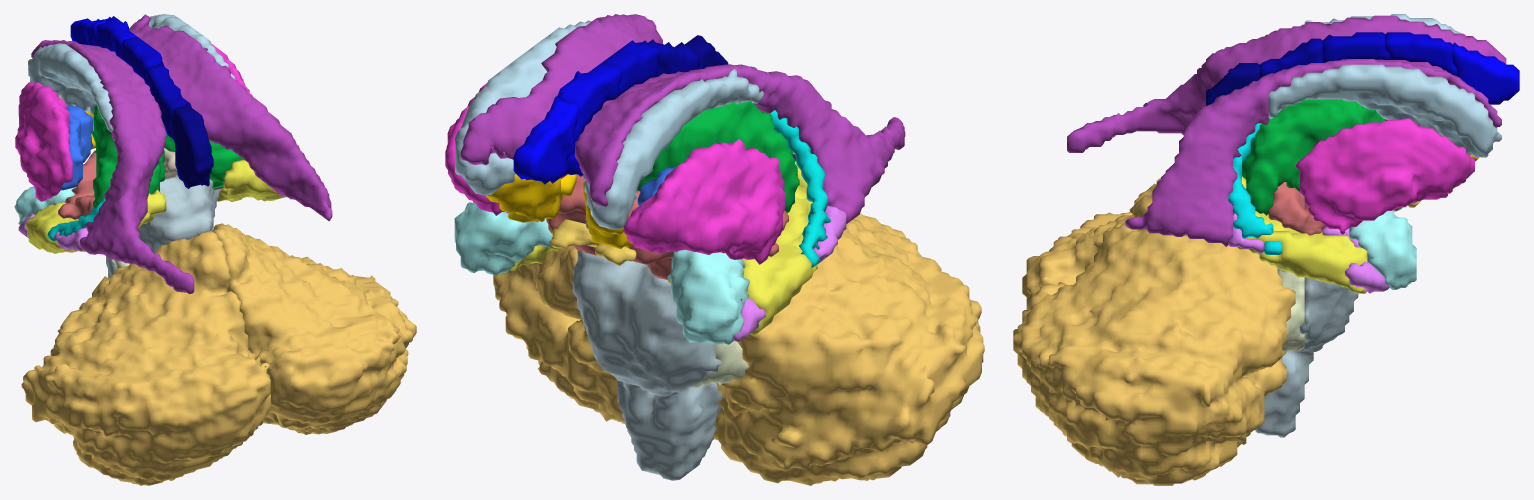
Rendered from structures.glb.
The picture shows the model from 3 angles, left to right: view 1: azimuth 30°, elevation 25°; view 2: azimuth 150°, elevation 25°; view 3: azimuth 270°, elevation 25°; orthographic projection. The views are drawn at different scales.
Visible parts, largest first — view 1: aseg:left:8, aseg:right:47, aseg:right:43, aseg:left:4, aseg:left:12, aseg:midline:16, aseg:left:11, aseg:midline:251, aseg:left:10, aseg:left:17, aseg:right:53, aseg:left:13 (+10 smaller); view 2: aseg:left:8, aseg:midline:16, aseg:left:4, aseg:left:12, aseg:right:47, aseg:right:43, aseg:left:11, aseg:left:18, aseg:left:10, aseg:right:50, aseg:left:17, aseg:right:54 (+14 smaller); view 3: aseg:right:47, aseg:right:43, aseg:right:51, aseg:right:50, aseg:left:4, aseg:right:49, aseg:midline:16, aseg:right:53, aseg:left:8, aseg:right:54, aseg:midline:255, aseg:right:63 (+7 smaller).
Boxes of the visible parts, left/top/right/bottom form: aseg:left:8: left=21, top=231, right=270, bottom=485; aseg:right:47: left=211, top=223, right=416, bottom=434; aseg:right:43: left=129, top=14, right=332, bottom=220; aseg:left:4: left=31, top=40, right=194, bottom=294; aseg:left:12: left=15, top=82, right=72, bottom=201; aseg:midline:16: left=106, top=172, right=222, bottom=277; aseg:left:11: left=28, top=43, right=113, bottom=132; aseg:midline:251: left=171, top=102, right=213, bottom=188; aseg:left:10: left=91, top=104, right=164, bottom=207; aseg:left:17: left=25, top=189, right=166, bottom=253; aseg:right:53: left=216, top=159, right=286, bottom=201; aseg:left:13: left=60, top=104, right=93, bottom=190; aseg:left:8: left=714, top=212, right=984, bottom=485; aseg:midline:16: left=572, top=250, right=722, bottom=480; aseg:left:4: left=575, top=64, right=905, bottom=223; aseg:left:12: left=623, top=139, right=785, bottom=264; aseg:right:47: left=493, top=245, right=624, bottom=423; aseg:right:43: left=460, top=14, right=662, bottom=178; aseg:left:11: left=583, top=69, right=764, bottom=229; aseg:left:18: left=667, top=250, right=749, bottom=344; aseg:left:10: left=637, top=101, right=799, bottom=212; aseg:right:50: left=455, top=20, right=591, bottom=195; aseg:left:17: left=667, top=161, right=817, bottom=335; aseg:right:54: left=454, top=202, right=552, bottom=275; aseg:right:47: left=1013, top=195, right=1295, bottom=485; aseg:right:43: left=1125, top=59, right=1501, bottom=246; aseg:right:51: left=1295, top=118, right=1474, bottom=234; aseg:right:50: left=1268, top=64, right=1501, bottom=157; aseg:left:4: left=1067, top=15, right=1506, bottom=152; aseg:right:49: left=1242, top=99, right=1385, bottom=215; aseg:midline:16: left=1255, top=268, right=1358, bottom=437; aseg:right:53: left=1237, top=176, right=1367, bottom=293; aseg:left:8: left=1022, top=178, right=1160, bottom=309; aseg:right:54: left=1349, top=210, right=1416, bottom=289; aseg:midline:255: left=1452, top=42, right=1519, bottom=104; aseg:right:63: left=1228, top=123, right=1282, bottom=254.
Size of the model in its own units: 0.102 by 0.1 by 0.113.
